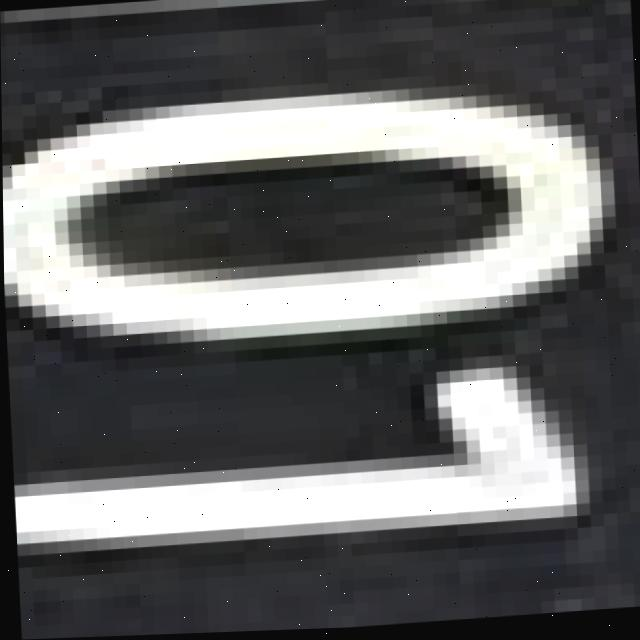character: (1, 48, 640, 366), (7, 336, 604, 580), (0, 0, 631, 47)
